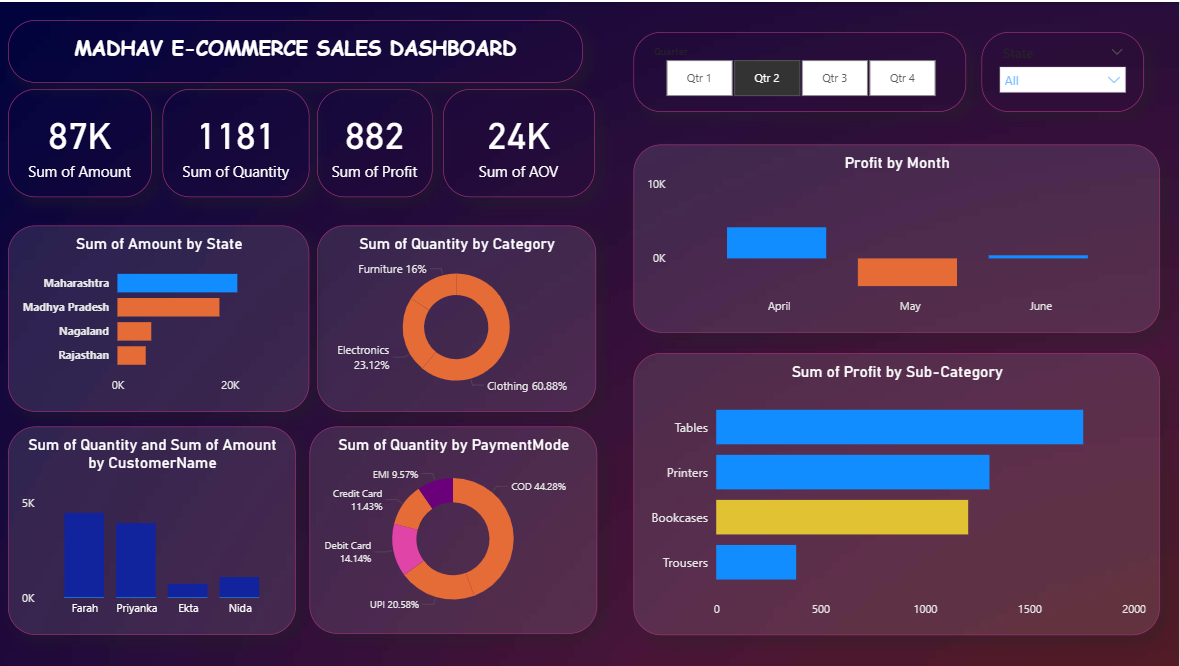

What the dashboard file says about the page in this screenshot:
{"tool":"powerbi","page":{"name":"Page 1","canvas":[1280,720],"ordinal":0},"visuals":[{"type":"textbox","box":[9.4,18.9,623.6,68],"z":0},{"type":"columnChart","title":"Profit by Month","fields":{"Category":["Orders.Order Date.Variation.Date Hierarchy.Month"],"Y":["Sum(Details.Profit)"]},"box":[687.9,155,570.7,204.1],"z":1000},{"type":"barChart","fields":{"Category":["Details.Sub-Category"],"Y":["Sum(Details.Profit)"]},"box":[687.9,379.8,570.7,306.1],"z":2000},{"type":"donutChart","fields":{"Category":["Details.Category"],"Y":["Sum(Details.Quantity)"]},"box":[344.8,242.4,302.5,201.7],"z":3000},{"type":"donutChart","fields":{"Y":["Sum(Details.Quantity)"],"Category":["Details.PaymentMode"]},"box":[336.4,461.1,311.8,224.9],"z":4000},{"type":"card","fields":{"Values":["Sum(Details.Amount)"]},"box":[9.8,94.3,156.1,117.1],"z":4002},{"type":"card","fields":{"Values":["Sum(Details.Quantity)"]},"box":[177.3,94.3,159.4,117.1],"z":4003},{"type":"card","fields":{"Values":["Sum(Details.Profit)"]},"box":[344.8,94.3,125.2,117.1],"z":4004},{"type":"card","fields":{"Values":["Sum(Details.AOV)"]},"box":[481.9,94.5,164.4,117.2],"z":4005},{"type":"barChart","fields":{"Category":["Orders.State"],"Y":["Sum(Details.Amount)"]},"box":[9.8,242.4,326.9,201.7],"z":4006},{"type":"columnChart","fields":{"Category":["Orders.CustomerName"],"Y":["Sum(Details.Quantity)","Sum(Details.Amount)"]},"box":[10,460,312,226],"z":4007},{"type":"slicer","fields":{"Values":["Orders.Order Date.Variation.Date Hierarchy.Quarter"]},"box":[687.9,32.1,360.9,86.9],"z":4008},{"type":"slicer","fields":{"Values":["Orders.State"]},"box":[1065.8,32.1,175.7,86.9],"z":4009}]}

Visuals, with their boxes in screenshot pixels (x1, y1, x2, y2), scaled from the page's 1280x720 canvas onto the 1180x666 screenshot:
textbox: select_region(9, 17, 584, 80)
"Profit by Month" columnChart: select_region(634, 143, 1160, 332)
barChart - Details.Sub-Category x Sum(Details.Profit): select_region(634, 351, 1160, 634)
donutChart - Details.Category x Sum(Details.Quantity): select_region(318, 224, 597, 411)
donutChart - Sum(Details.Quantity) x Details.PaymentMode: select_region(310, 427, 598, 635)
card - Sum(Details.Amount): select_region(9, 87, 153, 196)
card - Sum(Details.Quantity): select_region(163, 87, 310, 196)
card - Sum(Details.Profit): select_region(318, 87, 433, 196)
card - Sum(Details.AOV): select_region(444, 87, 596, 196)
barChart - Orders.State x Sum(Details.Amount): select_region(9, 224, 310, 411)
columnChart - Orders.CustomerName x Sum(Details.Quantity): select_region(9, 426, 297, 635)
slicer - Orders.Order Date.Variation.Date Hierarchy.Quarter: select_region(634, 30, 967, 110)
slicer - Orders.State: select_region(983, 30, 1145, 110)
